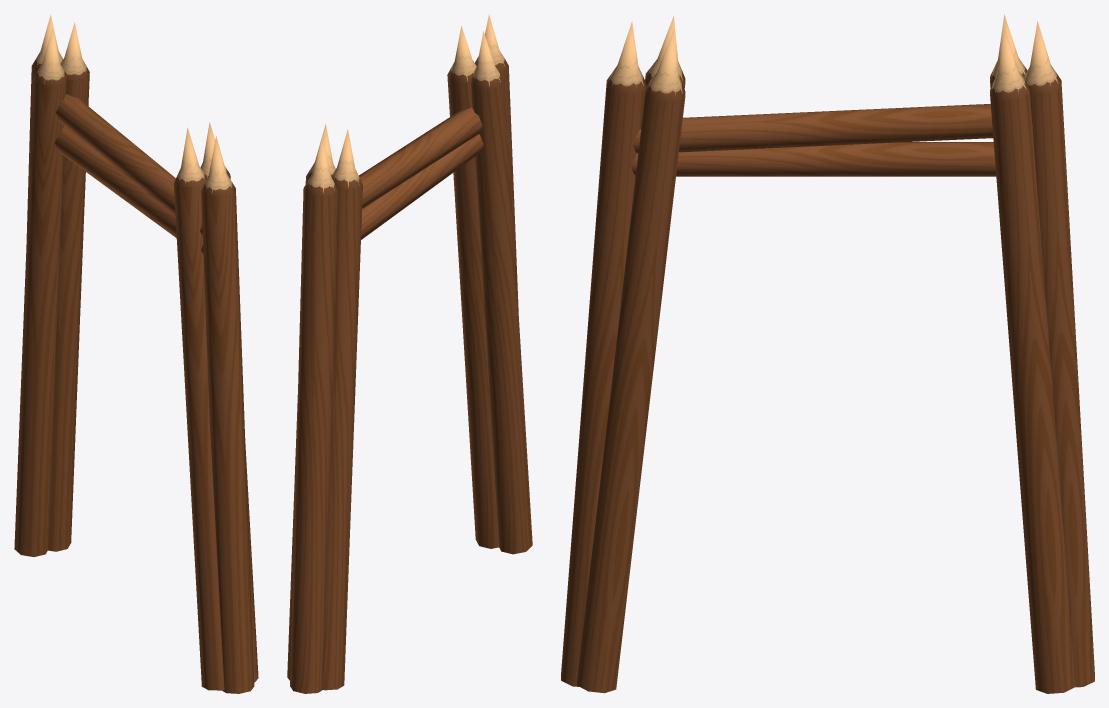
File: woodengate001.fbx
3 renders of one model, left to right at view 1: azimuth 30°, elevation 25°; view 2: azimuth 150°, elevation 25°; view 3: azimuth 270°, elevation 25°, orthographic. The views are drawn at different scales.
Visible parts, largest first — view 1: woodgate001; view 2: woodgate001; view 3: woodgate001.
Boxes of the visible parts, box(x1,y1,x2,y2) form: woodgate001: box(14, 14, 258, 693); woodgate001: box(287, 14, 532, 693); woodgate001: box(561, 14, 1094, 693).
Bounding box in the file's own units: 4.16 × 42.78 × 31.38.
